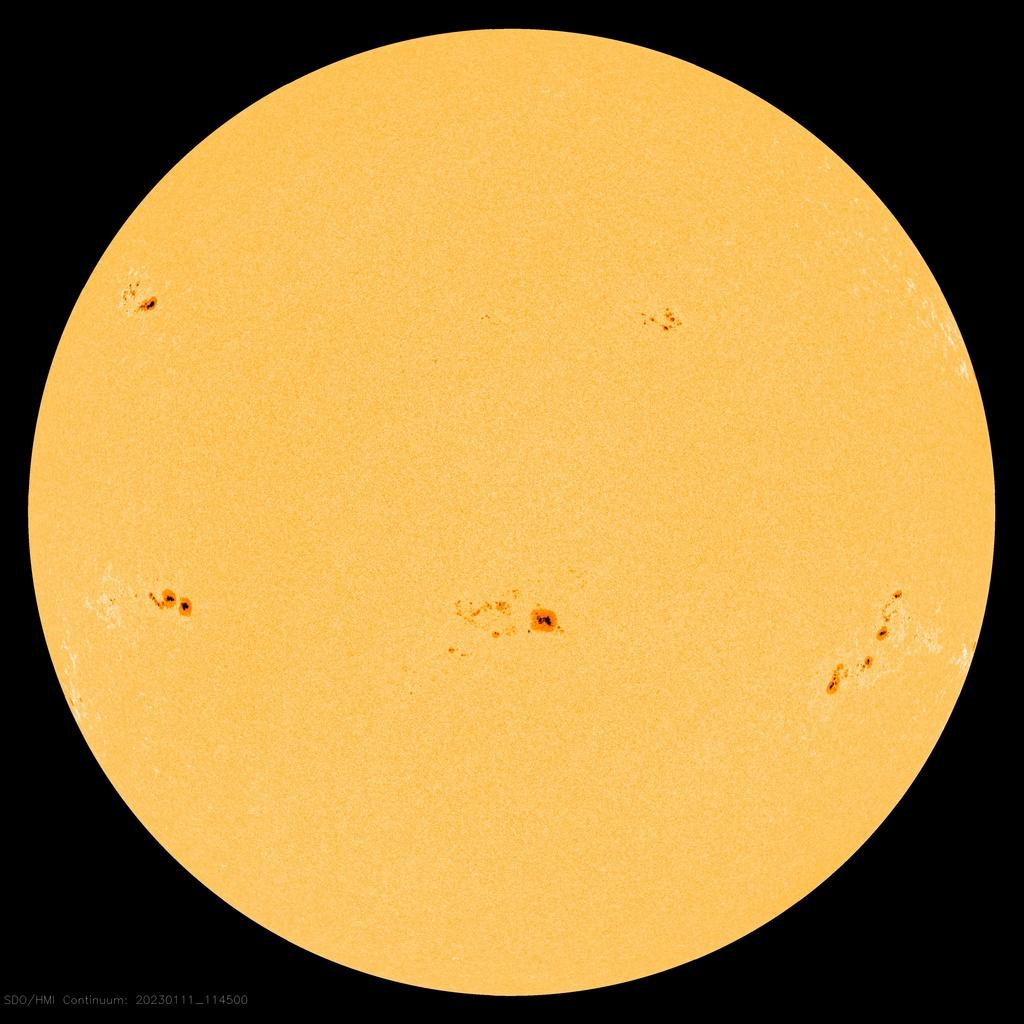flare: (437, 578, 585, 667), (818, 582, 916, 707), (110, 265, 174, 327), (134, 581, 206, 631), (630, 294, 694, 346)
